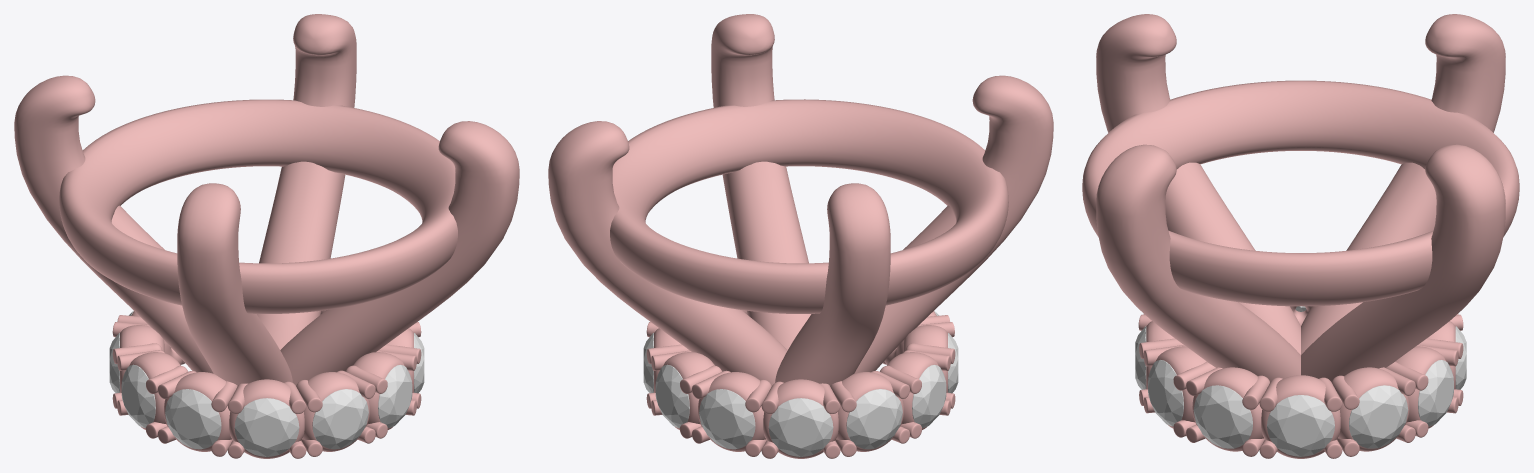
File: HIDDEN-HALO.glb
The picture shows the model from 3 angles, left to right: view 1: azimuth 30°, elevation 25°; view 2: azimuth 150°, elevation 25°; view 3: azimuth 270°, elevation 25°; orthographic projection. The views are drawn at different scales.
Parts seen in each view (by area): view 1: round.001, hidden halo.001, hidden halo - diamonds.001; view 2: round.001, hidden halo.001, hidden halo - diamonds.001; view 3: round.001, hidden halo.001, hidden halo - diamonds.001.
Part boxes in pixels (x1,y1,x2,y2): round.001: (14,14,519,385); hidden halo.001: (112,310,421,458); hidden halo - diamonds.001: (109,310,424,456); round.001: (548,14,1053,385); hidden halo.001: (646,310,955,458); hidden halo - diamonds.001: (643,310,958,456); round.001: (1082,14,1519,382); hidden halo.001: (1138,306,1463,458); hidden halo - diamonds.001: (1135,306,1466,456).
Size of the model in its own units: 4.96 by 4.48 by 4.96.
